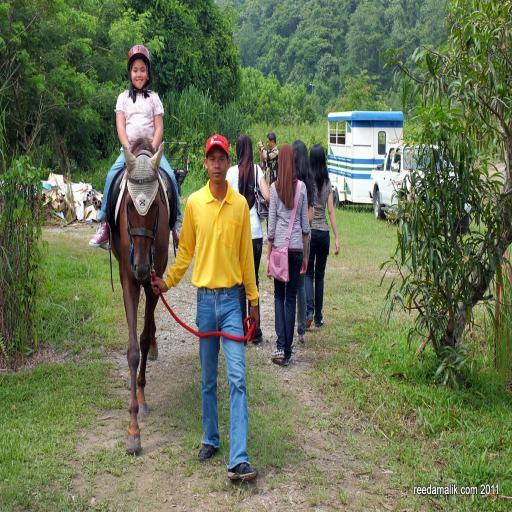horse: (104, 137, 171, 452)
